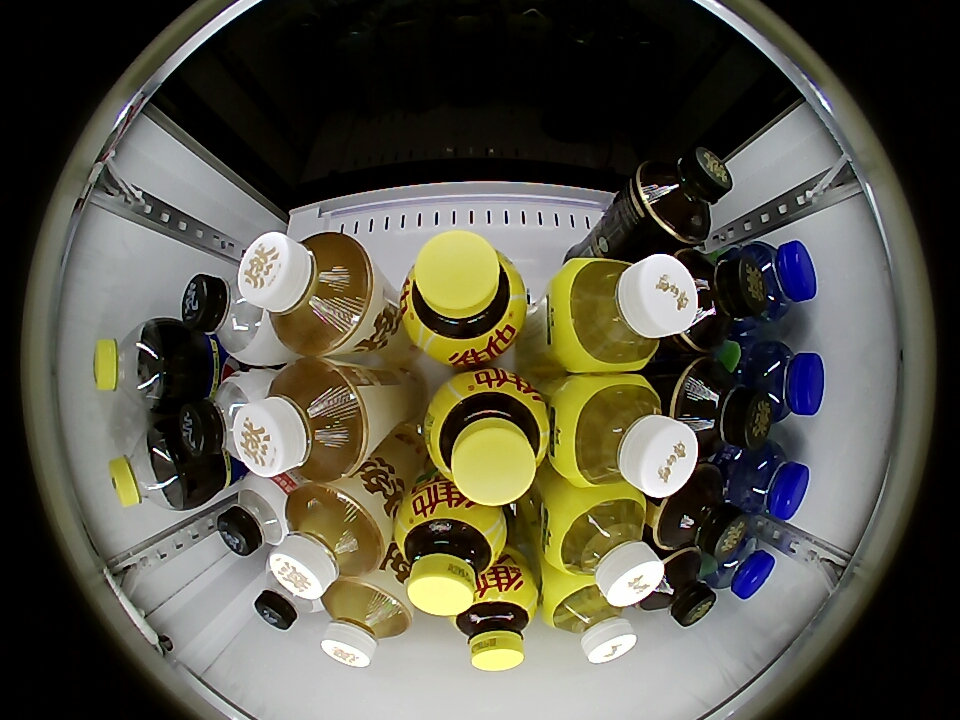baishikele: (93, 320, 169, 408), (109, 425, 188, 509)
bingtangxueli: (553, 373, 699, 498), (552, 253, 699, 374), (547, 490, 665, 607), (544, 578, 636, 664)
maidong: (743, 340, 824, 421), (725, 444, 810, 520), (740, 240, 818, 322), (704, 521, 776, 600)
rancha-1: (637, 147, 733, 244), (672, 250, 762, 352), (672, 357, 770, 450), (654, 466, 744, 557), (637, 549, 716, 626)
rancha-2: (238, 229, 375, 356), (232, 360, 371, 482), (271, 483, 386, 599), (321, 577, 412, 668)
weitaningmeng-bottle: (401, 230, 528, 364), (425, 370, 549, 506), (395, 487, 507, 618), (455, 584, 536, 672)
yuanqishui: (183, 274, 282, 367), (179, 372, 268, 468), (217, 474, 297, 556), (254, 563, 319, 630)
